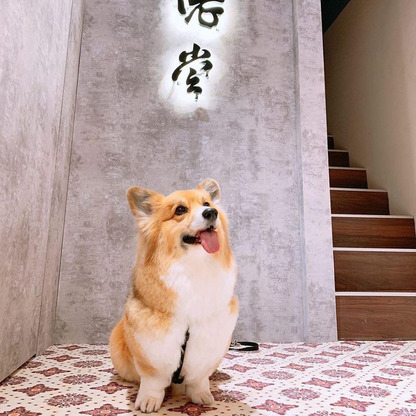Corgi: (108, 176, 251, 408)
